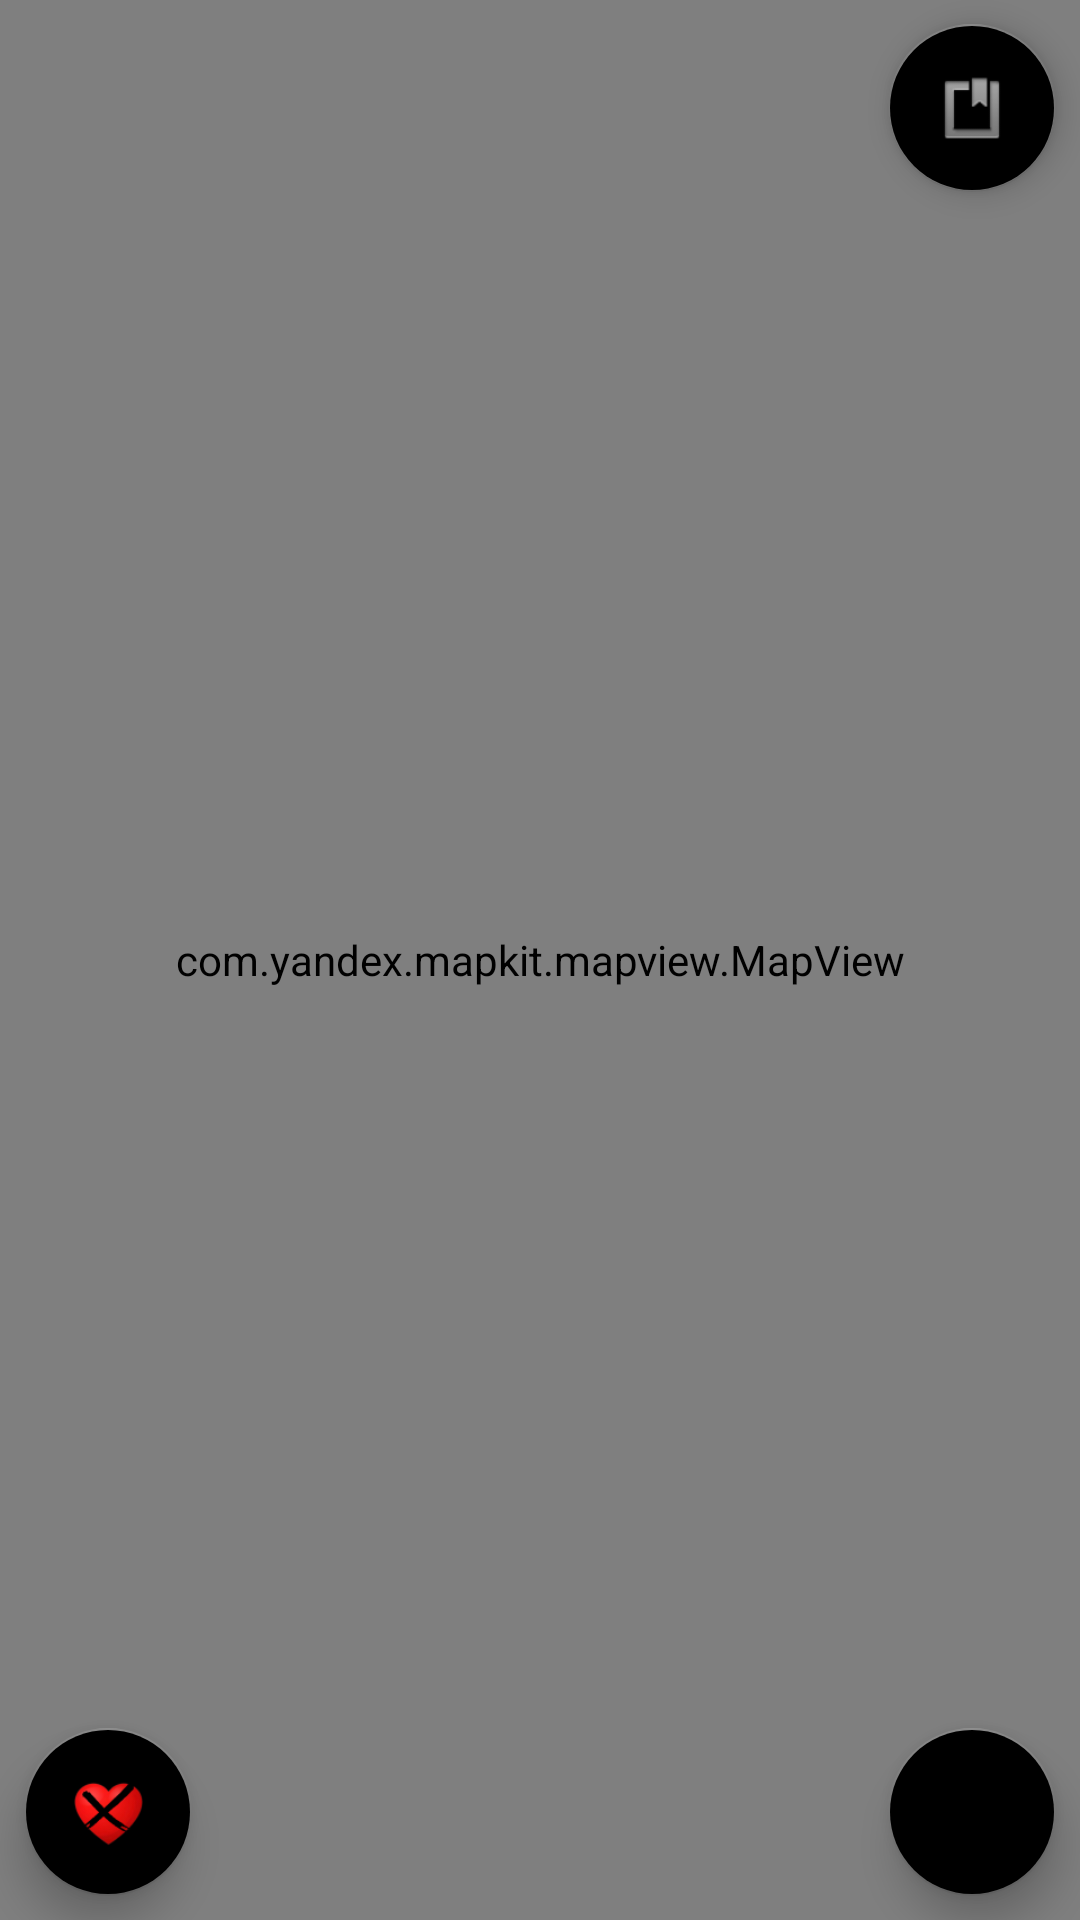

Screen size 1080px x 1920px. Icon name, then its box in pixels as (x1, y1, x2, y2):
delete heart: (26, 1730, 190, 1896)
